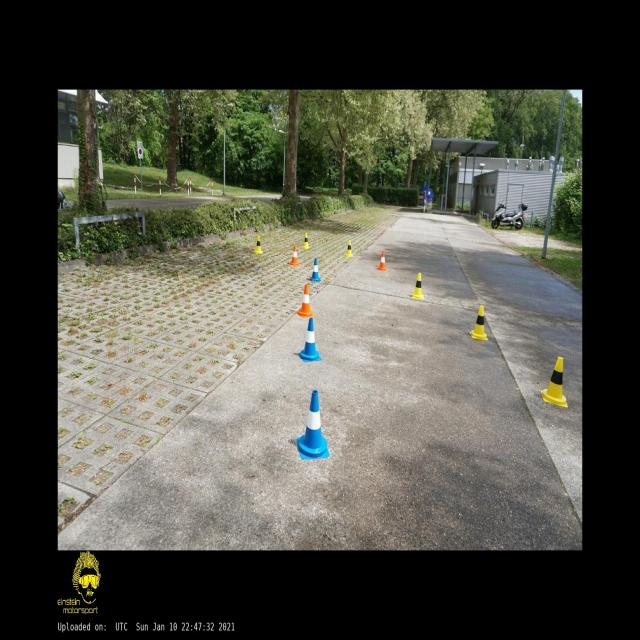blue_cone: (297, 390, 330, 460), (298, 318, 322, 362), (310, 258, 321, 282)
orange_cone: (297, 285, 314, 317), (289, 245, 299, 266), (377, 250, 387, 271)
yellow_cone: (541, 357, 567, 408), (470, 306, 488, 340), (412, 273, 423, 299), (254, 236, 263, 254), (345, 240, 353, 257), (303, 233, 309, 249)
